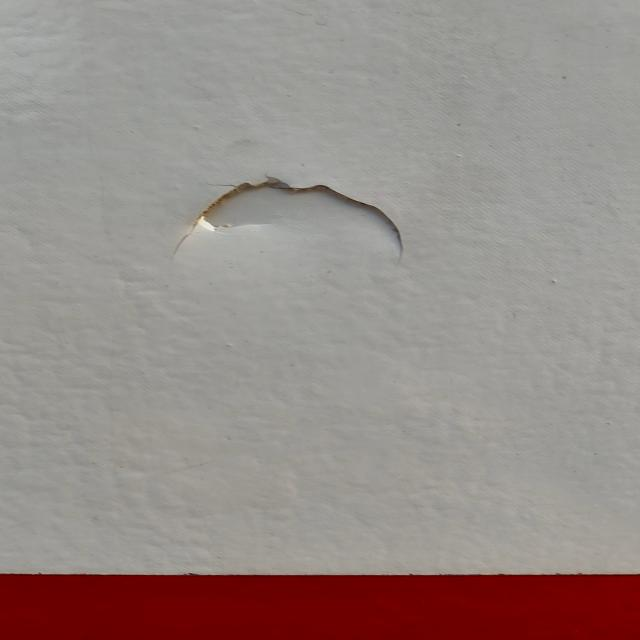Scratches: (143, 165, 420, 276)
